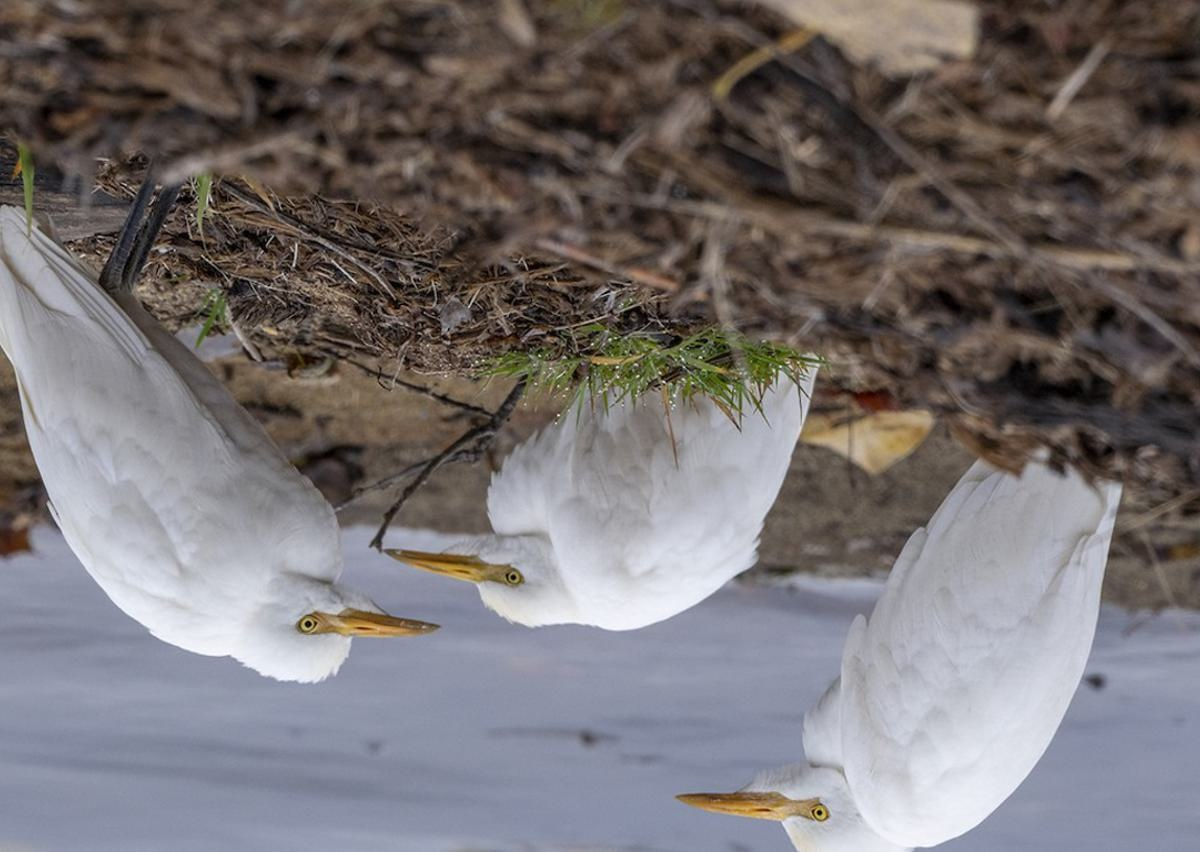egret: (1, 214, 443, 693), (662, 454, 1152, 846), (398, 319, 836, 625)
